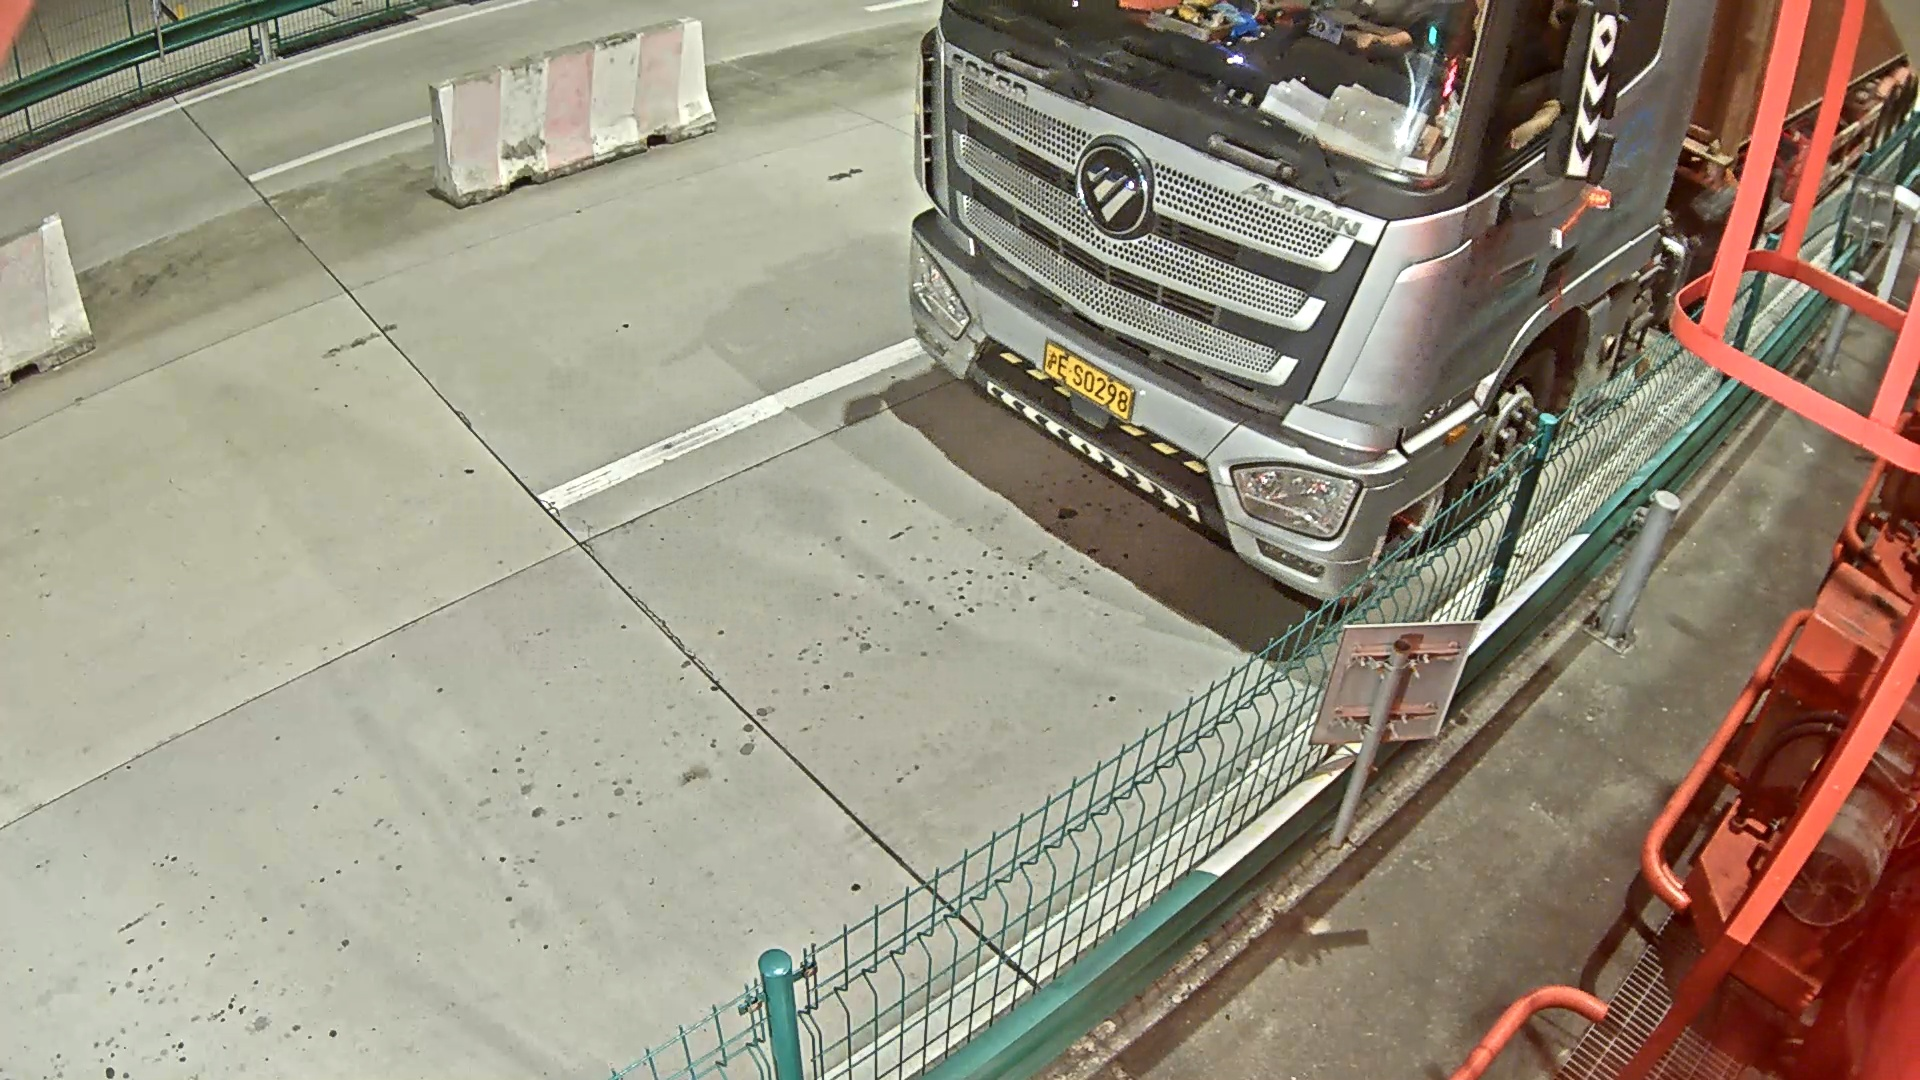head: (905, 13, 1550, 583)
plate: (1041, 339, 1142, 430)
